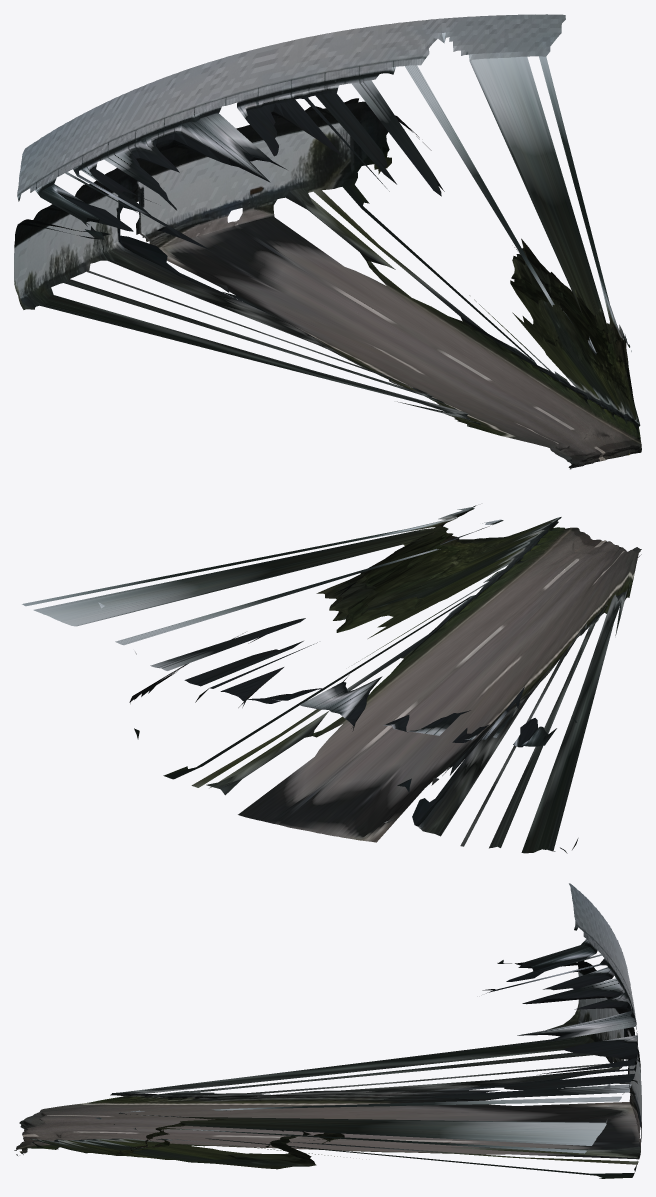
3 views of the same model, one above another, from view 1: azimuth 30°, elevation 25°; view 2: azimuth 150°, elevation 25°; view 3: azimuth 270°, elevation 25° (orthographic). The views are drawn at different scales.
Visible parts, largest first — view 1: defaultobject; view 2: defaultobject; view 3: defaultobject.
Boxes of the visible parts, bbox=[...] form: defaultobject: bbox=[14, 14, 641, 469]; defaultobject: bbox=[22, 505, 641, 853]; defaultobject: bbox=[14, 883, 641, 1178].
Size of the model in its own units: 40.23 by 12.69 by 44.44.
Materials: 1 (1 with a texture image).
